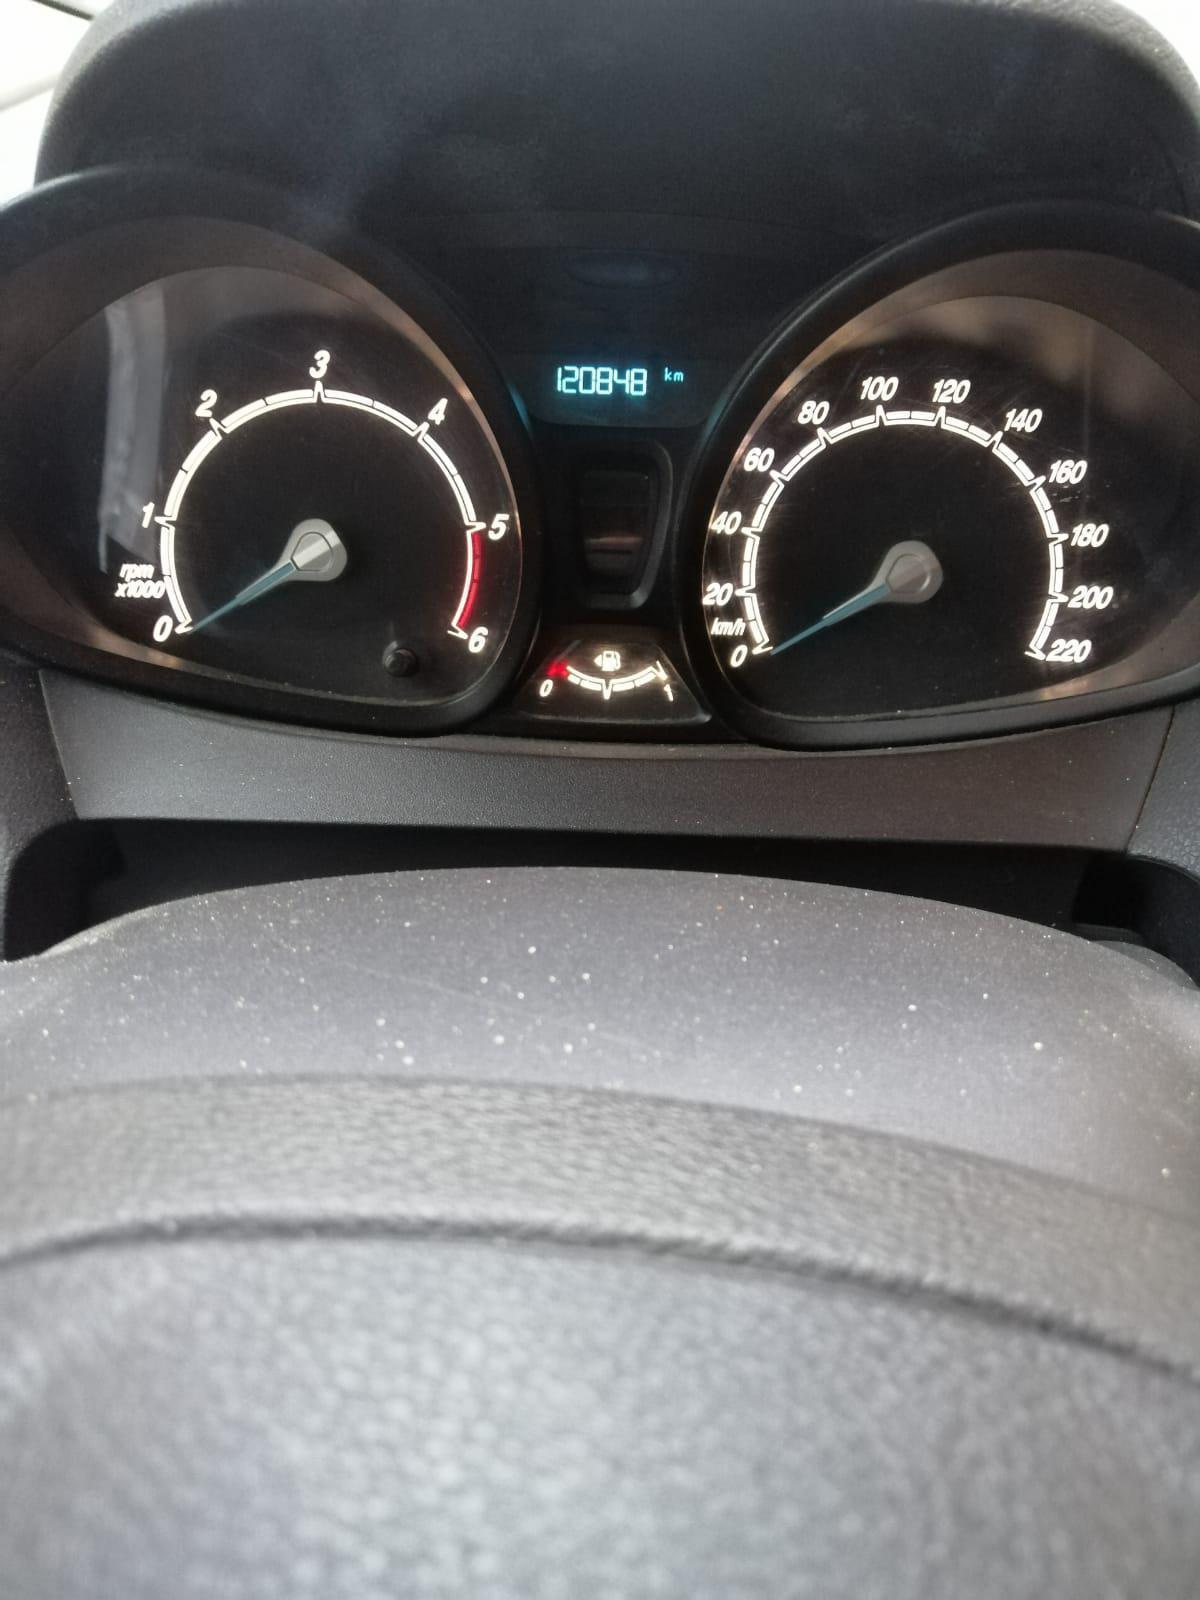0: (579, 365, 595, 396)
1: (555, 364, 562, 393)
2: (562, 362, 577, 394)
4: (613, 367, 632, 396)
8: (632, 367, 648, 397), (596, 367, 613, 396)
X: (663, 365, 672, 382), (674, 369, 684, 382)
odometer: (528, 344, 697, 421)
